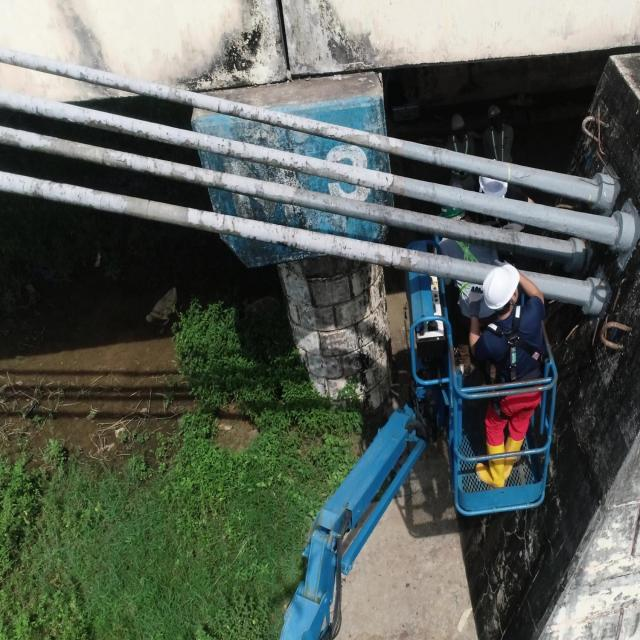crack: (220, 214, 226, 229), (438, 148, 442, 166), (390, 251, 394, 265), (146, 200, 150, 213), (230, 217, 234, 230), (234, 185, 239, 193), (102, 156, 105, 166), (35, 106, 38, 115), (197, 140, 200, 146), (218, 103, 220, 111), (293, 229, 295, 237), (263, 222, 265, 228)
